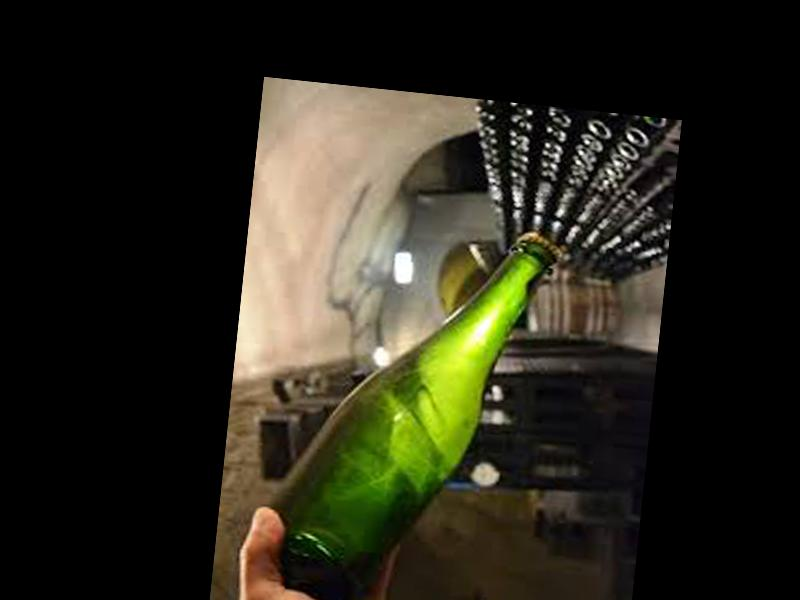Beer: (249, 206, 568, 600)
